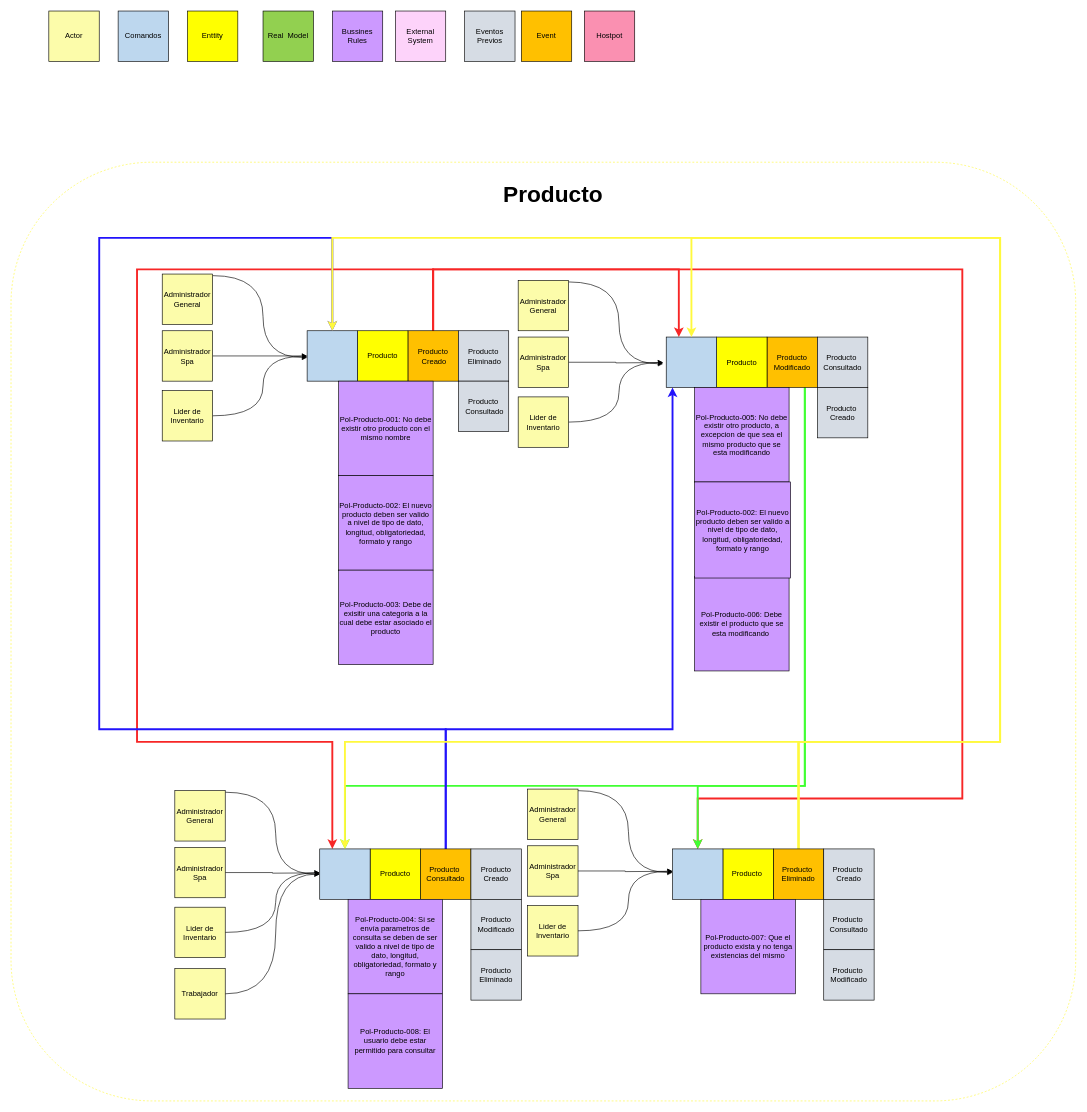
The diagram is 1087 pixels wide and 1112 high, and some of its shapes have lost their labels. The centre of each missing label's shape, as x and y in pixels:
Consultar Producto: the point at 344,873
Crear Producto: the point at 332,355
Eliminar Producto: the point at 697,873
Modificar Producto: the point at 691,361
